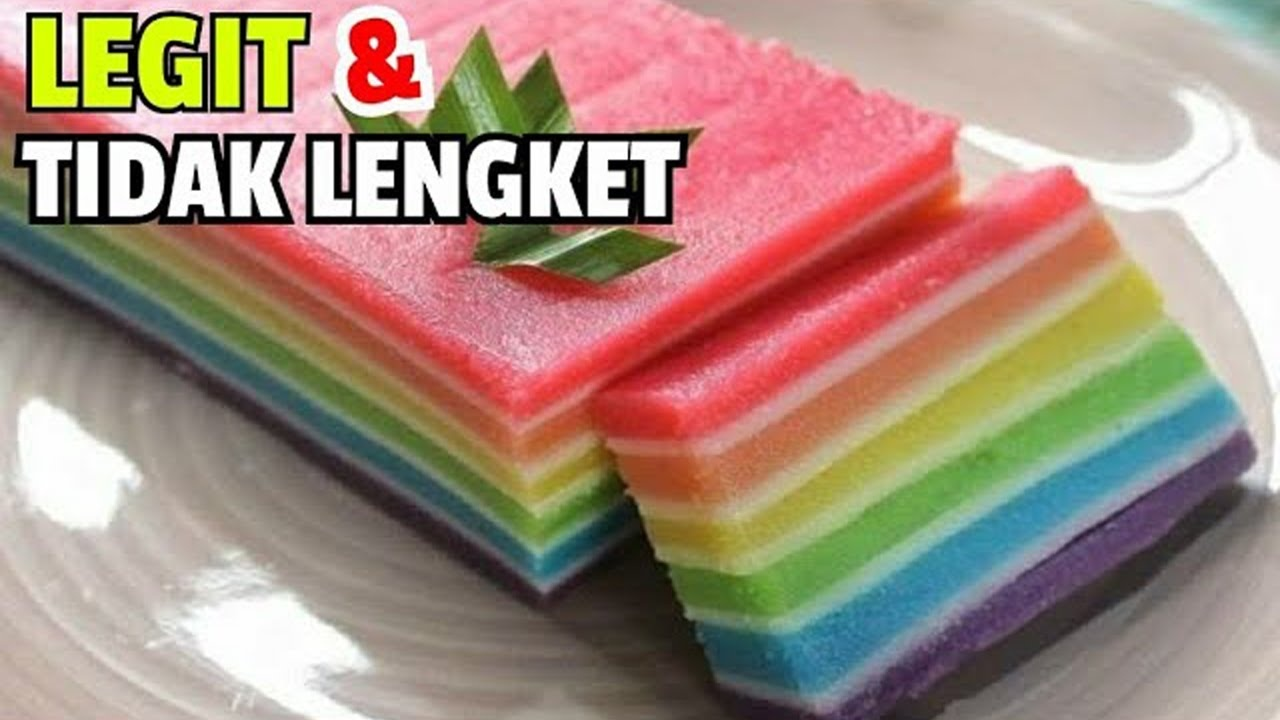kue_lapis_pelangi: (590, 164, 1257, 718)
